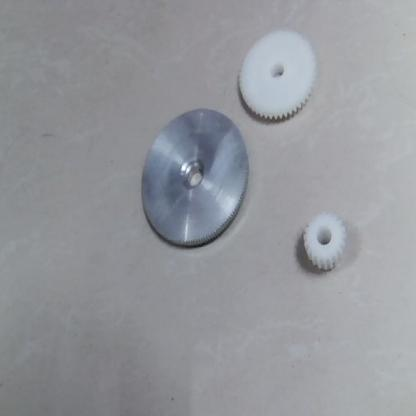FOD: (136, 107, 246, 250), (239, 23, 321, 128), (301, 209, 347, 275)
